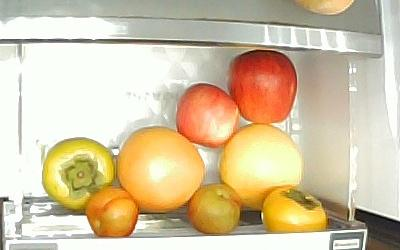apple: (225, 49, 297, 124), (174, 81, 240, 148)
grapefruit: (115, 124, 206, 212), (217, 122, 302, 210)
persimmon: (40, 135, 115, 210), (259, 183, 327, 233)
prune: (185, 181, 241, 234), (85, 185, 139, 238)
